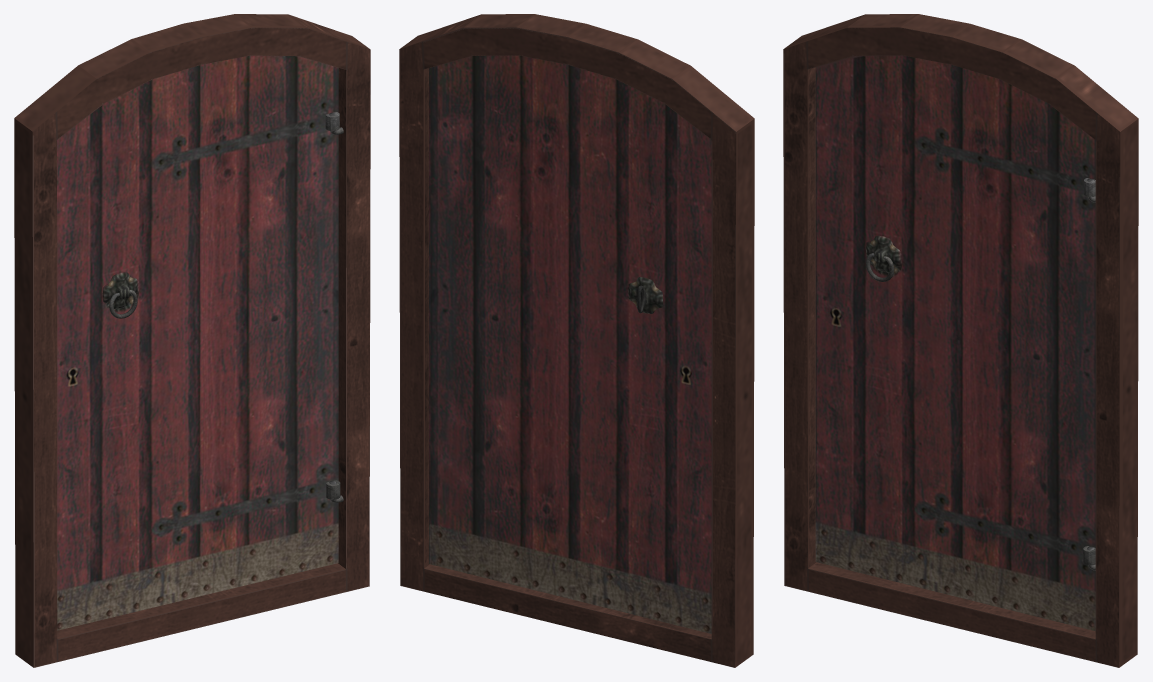
The model's file is door.fbx.
The picture shows the model from 3 angles, left to right: view 1: azimuth 30°, elevation 25°; view 2: azimuth 150°, elevation 25°; view 3: azimuth 330°, elevation 25°; orthographic projection.
Parts seen in each view (by area): view 1: door, frame; view 2: door, frame; view 3: door, frame.
Boxes of the visible parts, x1,y1,x2,y2 form: door: (57, 55, 340, 630); frame: (14, 14, 370, 667); door: (429, 55, 711, 633); frame: (399, 14, 754, 667); door: (815, 55, 1095, 631); frame: (783, 14, 1138, 667).
Size of the model in its own units: 263 by 438 by 30.98.
Materials: 2 (2 with a texture image).
